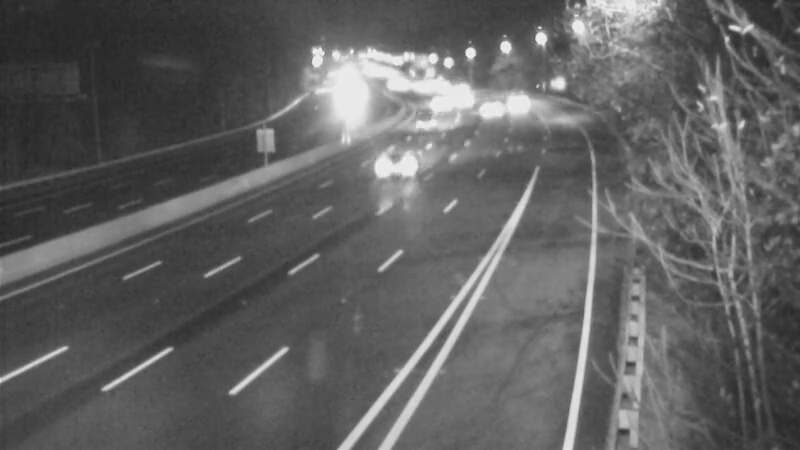vehicle: (355, 127, 435, 207), (435, 79, 485, 129), (487, 76, 537, 126), (411, 76, 461, 126), (469, 85, 519, 135), (405, 95, 455, 145)
